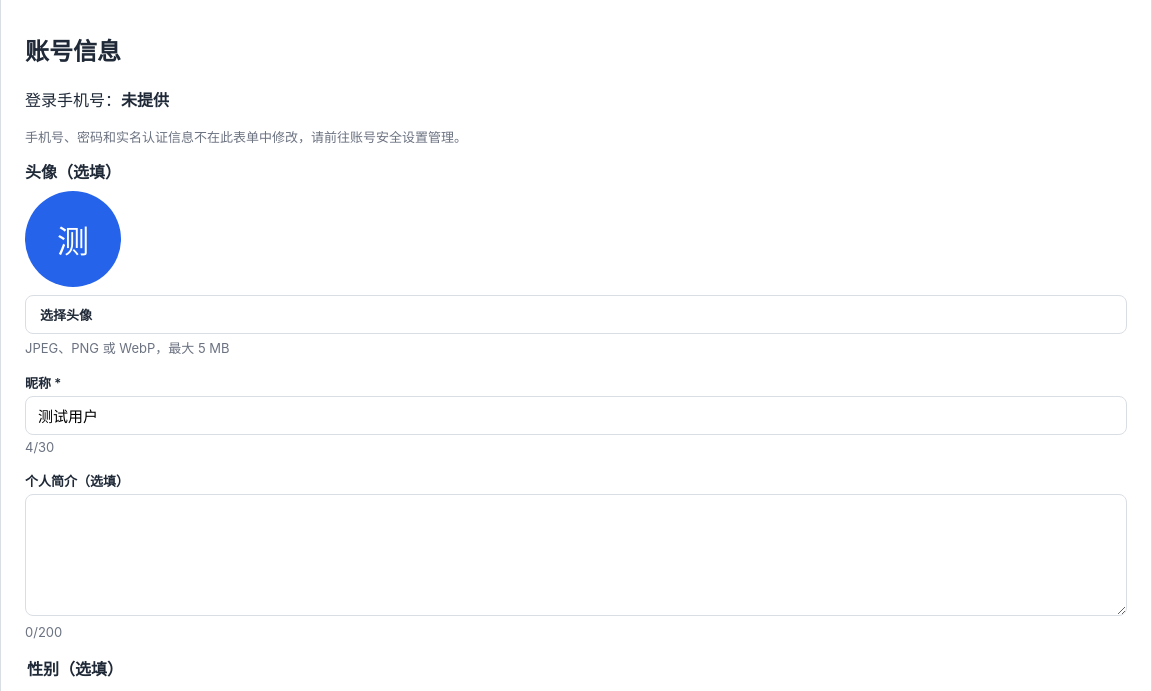
Test case: ProfileForm resilience › can discard a conflicted local draft and adopt the latest profile
Replace the text in the field labelled "昵称 *" with "要放弃的草稿" at [576, 415], box [25,396,1127,435]
(page scrolled)
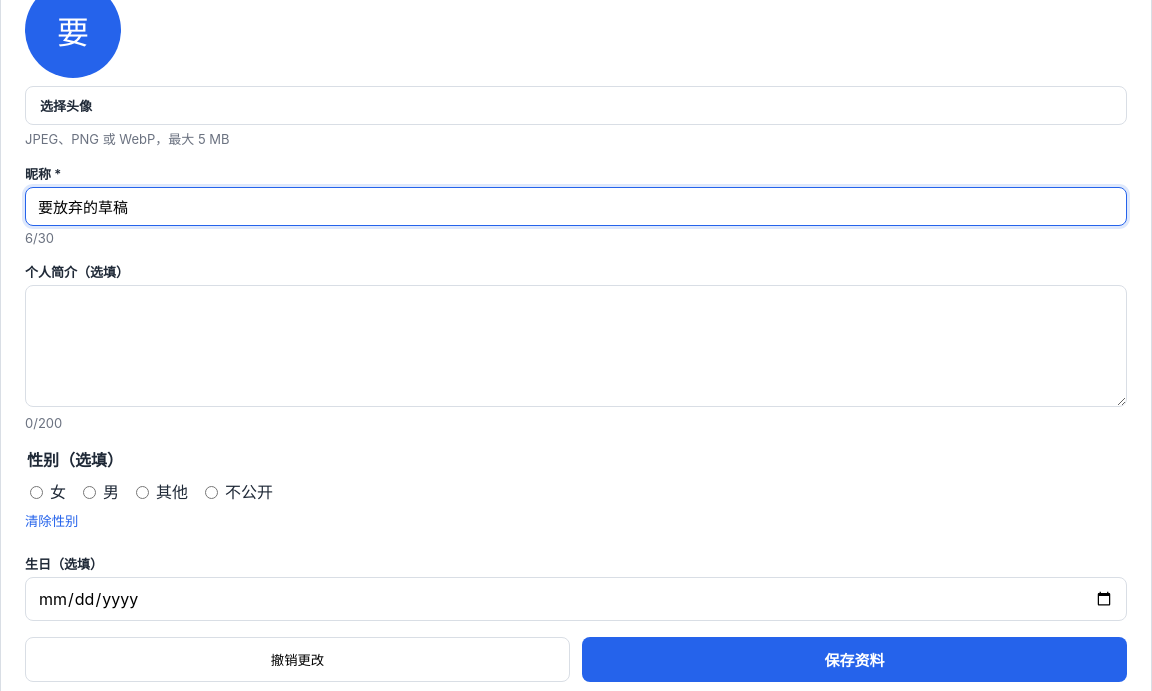
Click the button "保存资料".
click(854, 659)  # box [582,637,1127,682]
(page scrolled)
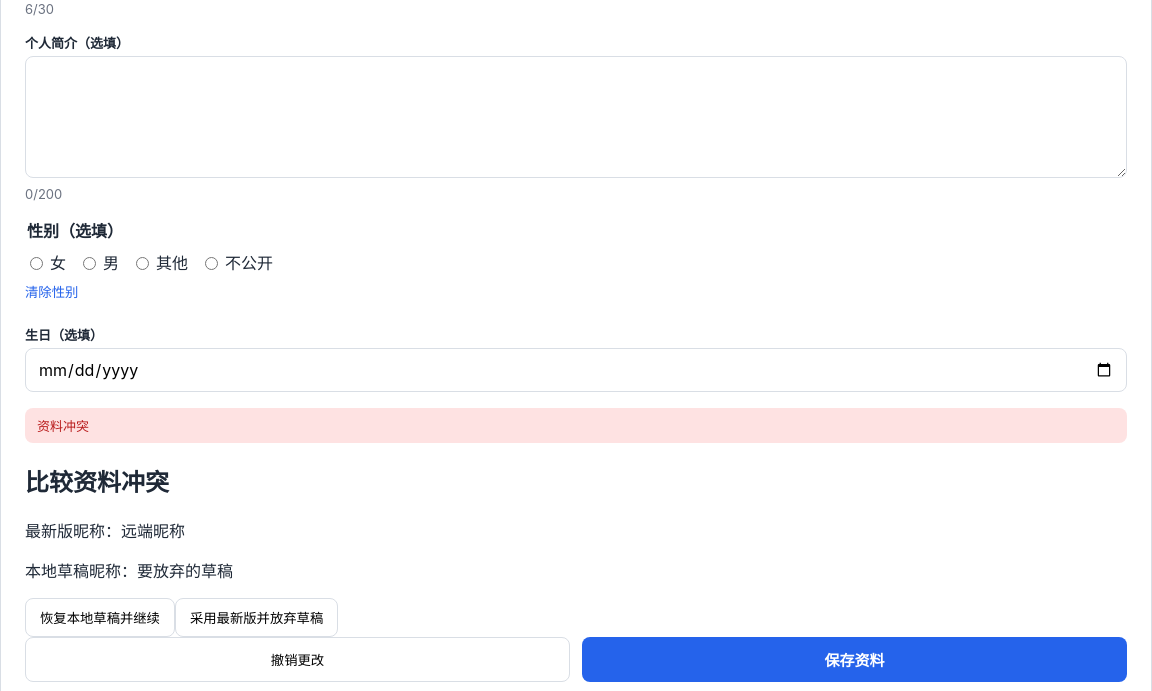
Click the button "采用最新版并放弃草稿".
click(257, 617)  # box [175,598,338,637]
(page scrolled)
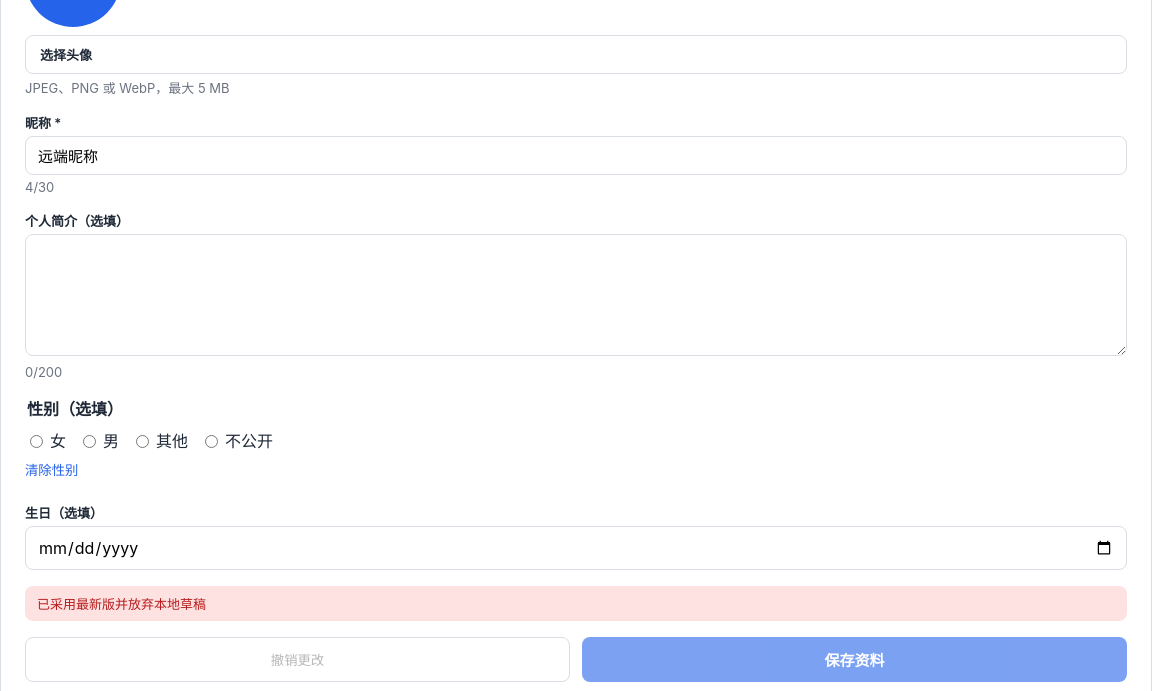
Expected: the field labelled "昵称 *" holds "远端昵称", [25,136,1127,175]
Expected: the button "保存资料" is disabled, [582,637,1127,682]
